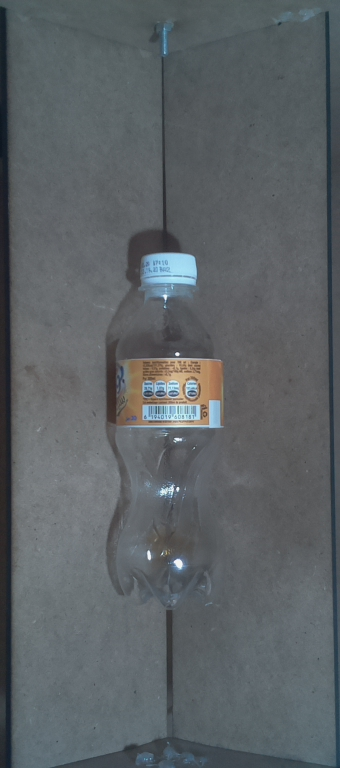Bouteille_0.3L: (98, 246, 243, 616)
